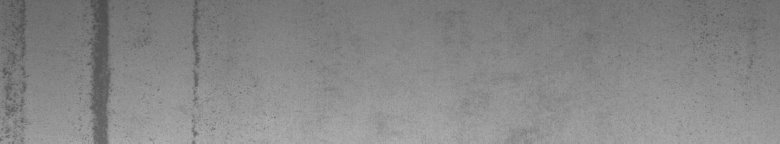hd: (4, 4, 219, 136)
